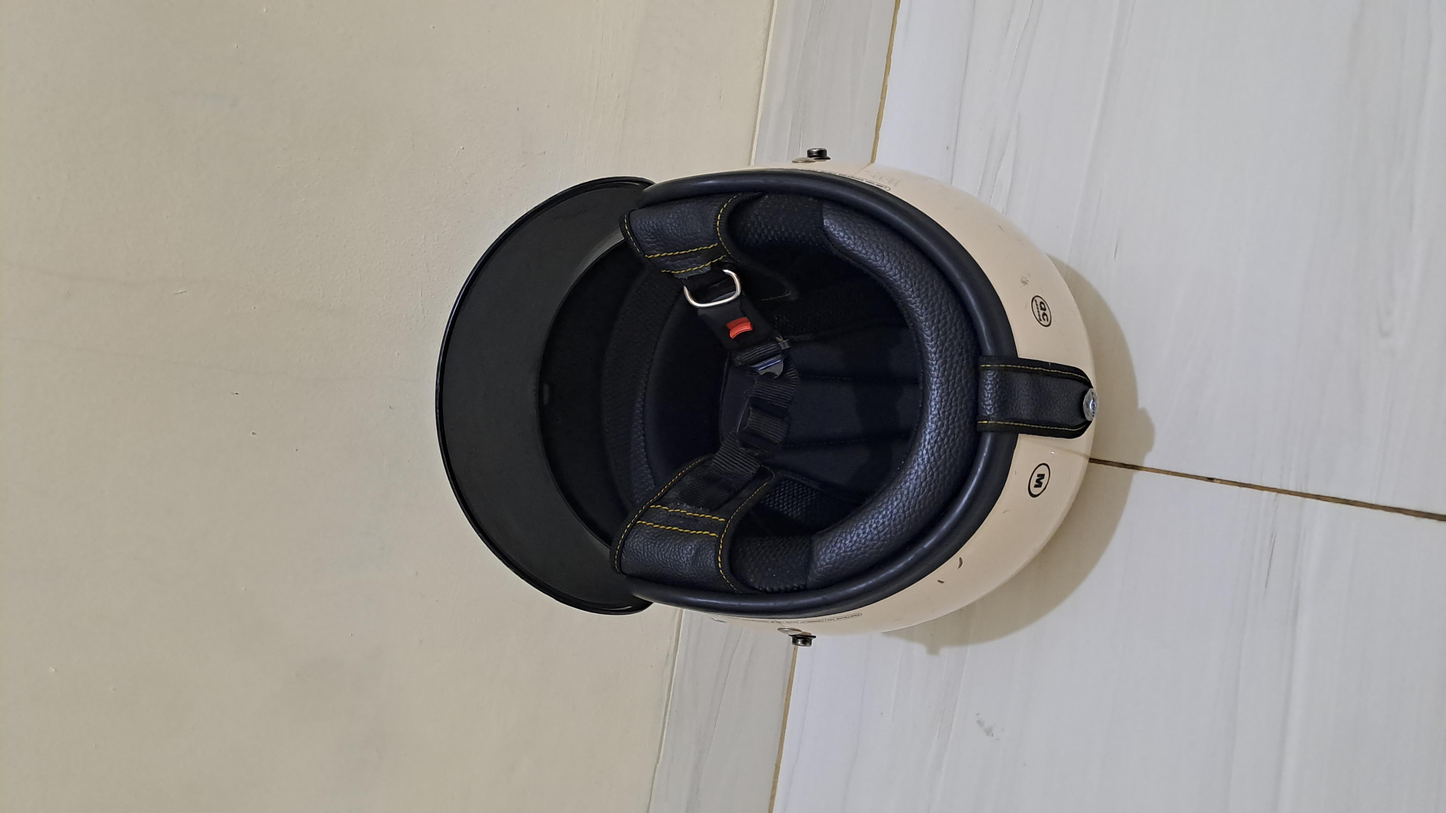helmet: (303, 218, 1166, 630)
